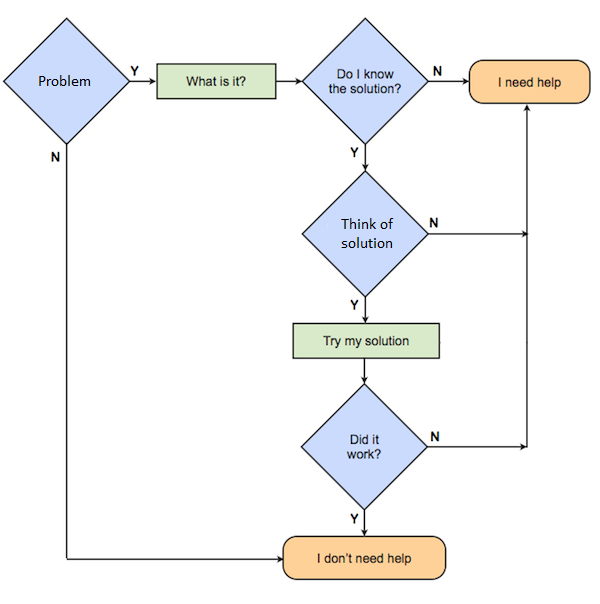arrow: (521, 104, 532, 448), (426, 442, 531, 451), (424, 230, 529, 238), (356, 141, 371, 174), (360, 503, 370, 543), (427, 77, 470, 86), (125, 76, 157, 86), (358, 354, 368, 384), (277, 77, 302, 85)
decision: (1, 15, 132, 149), (298, 382, 432, 513), (300, 17, 431, 149), (300, 170, 431, 301)
process: (280, 534, 448, 584), (289, 321, 442, 362), (466, 59, 594, 106), (155, 59, 282, 104)
text: (326, 67, 404, 96), (338, 215, 398, 252), (312, 550, 414, 567), (321, 333, 411, 350), (345, 431, 384, 462), (496, 76, 563, 92), (184, 72, 246, 88), (35, 73, 92, 89), (426, 215, 444, 230), (47, 148, 63, 164), (350, 298, 364, 313), (346, 511, 361, 525), (429, 428, 442, 444), (430, 65, 445, 78), (348, 144, 360, 159), (128, 61, 139, 77)
